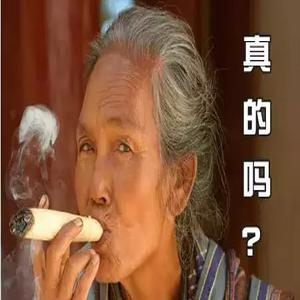cigarette: (4, 207, 115, 246)
